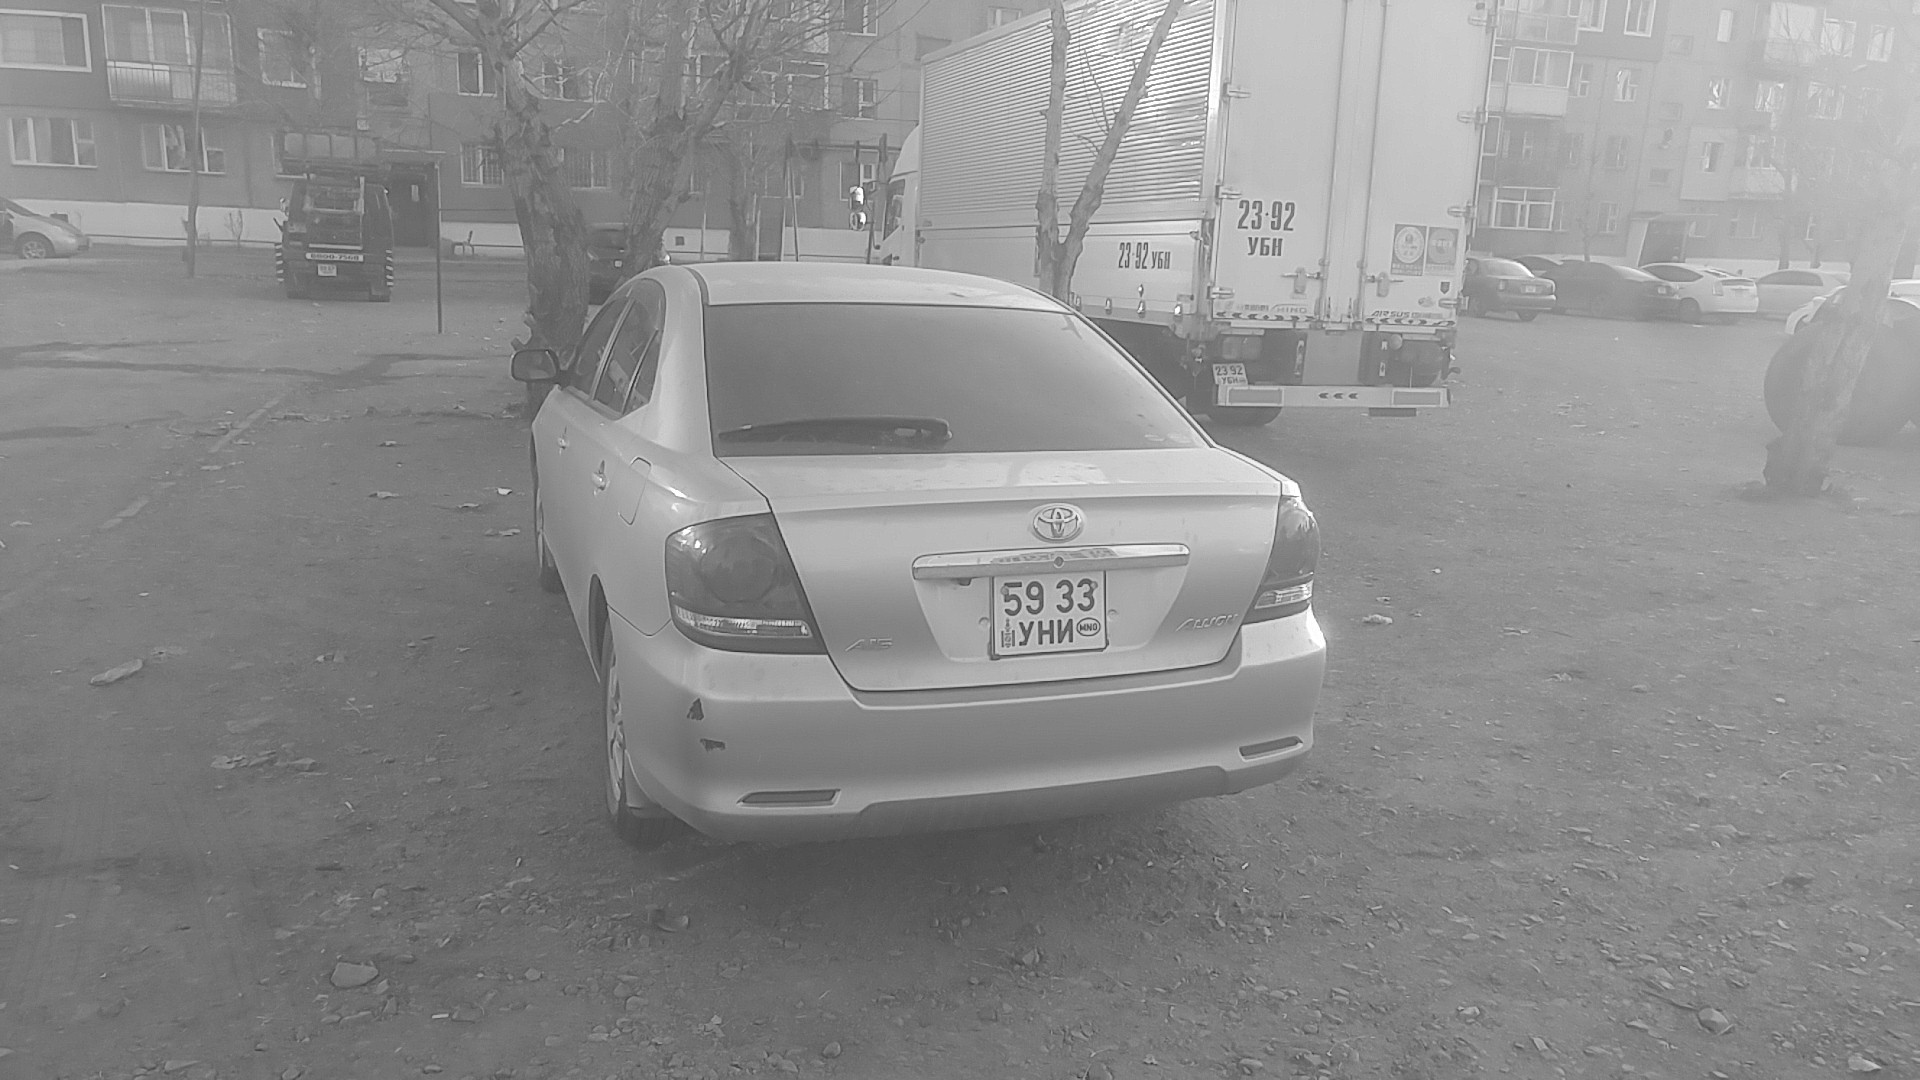5: (1003, 581, 1023, 616)
9: (1025, 580, 1045, 616), (1076, 577, 1095, 612), (1056, 579, 1074, 612)
i: (1056, 618, 1074, 645)
n: (1037, 619, 1056, 646)
plate: (991, 564, 1108, 660)
u: (1019, 620, 1035, 646)
